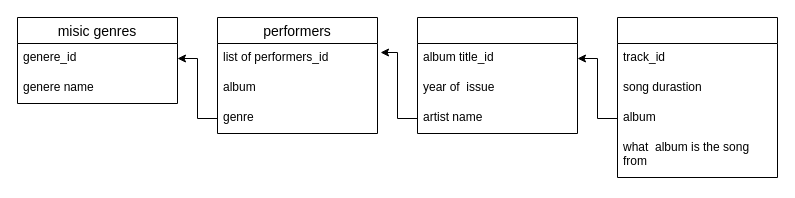
Some shapes in this 795 by 198 pixel diagram are drawn without their labels. Here are the shapes that lost their labels. From the top down, the box of each, then its label:
(416, 16, 578, 134): album list
(616, 16, 778, 178): track list
